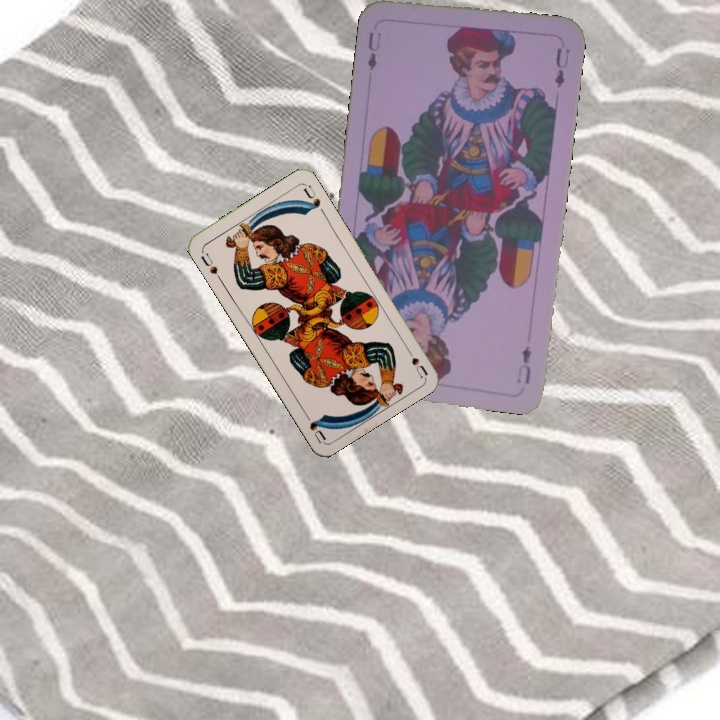EU: (512, 342, 534, 387), (363, 28, 384, 73)
SU: (401, 342, 430, 380), (196, 249, 224, 283)
